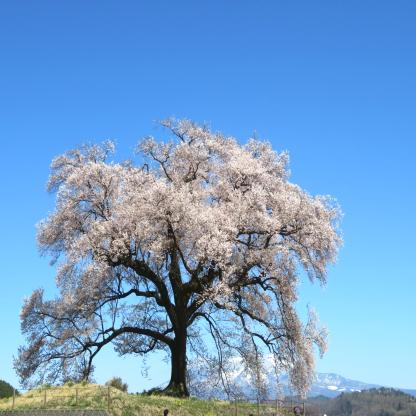EdohiganSakura: (11, 114, 344, 399)
